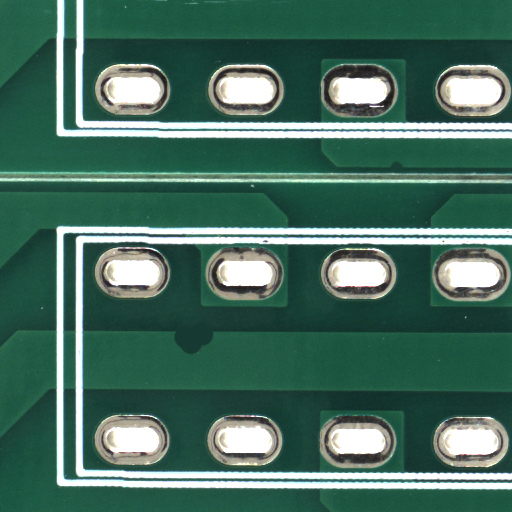Mouse_bite: (193, 341, 233, 369), (396, 165, 411, 174)
